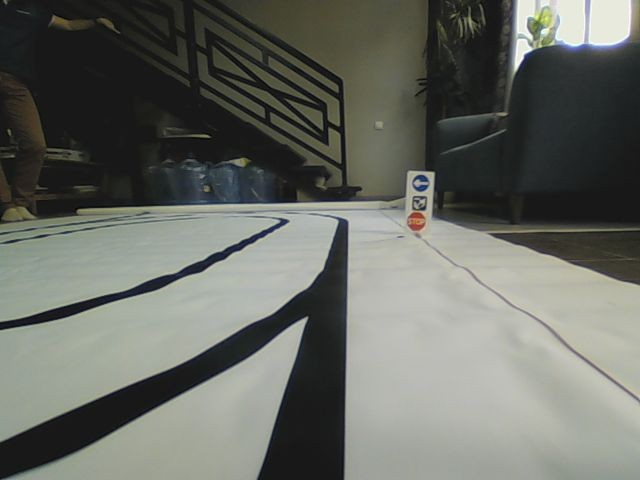Stop: (407, 211, 425, 230)
